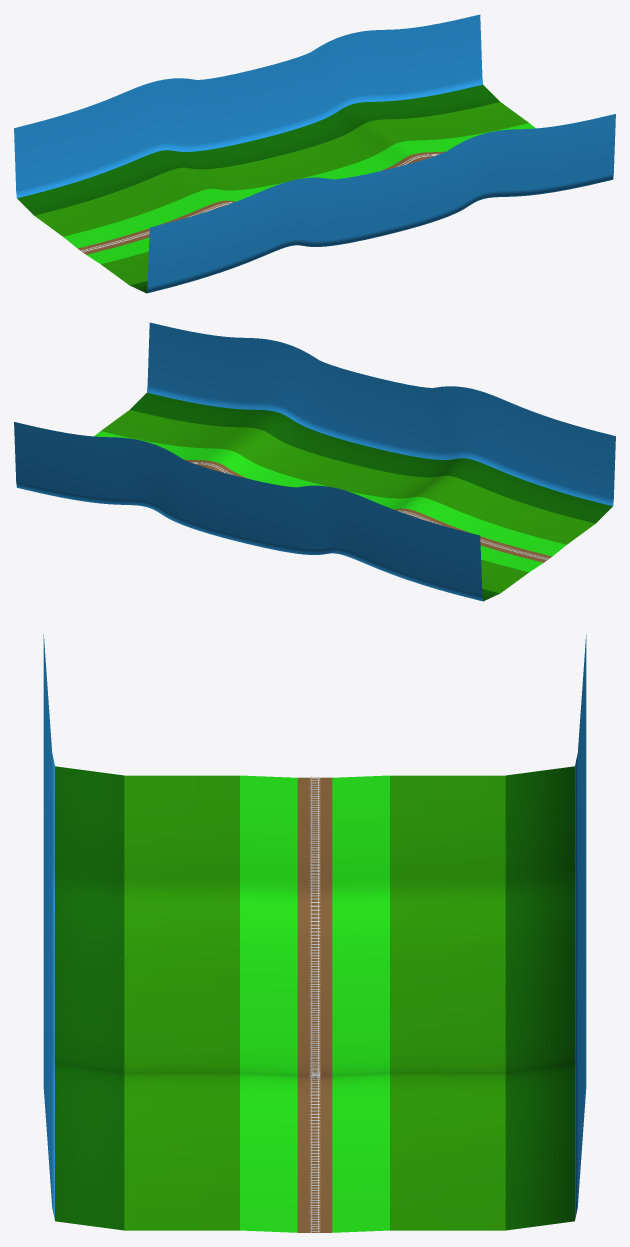
File: B_Bump_Double.fbx
3 renders of one model, top to bottom at view 1: azimuth 30°, elevation 25°; view 2: azimuth 150°, elevation 25°; view 3: azimuth 270°, elevation 25°, orthographic. The views are drawn at different scales.
Parts seen in each view (by area): view 1: Bache+2.002; view 2: Bache+2.002; view 3: Bache+2.002.
Part boxes in pixels (<box>): Bache+2.002: <box>14,14,615,293</box>; Bache+2.002: <box>14,322,615,601</box>; Bache+2.002: <box>43,634,586,1232</box>.
Size of the model in its own units: 19834 by 3502 by 10000.
